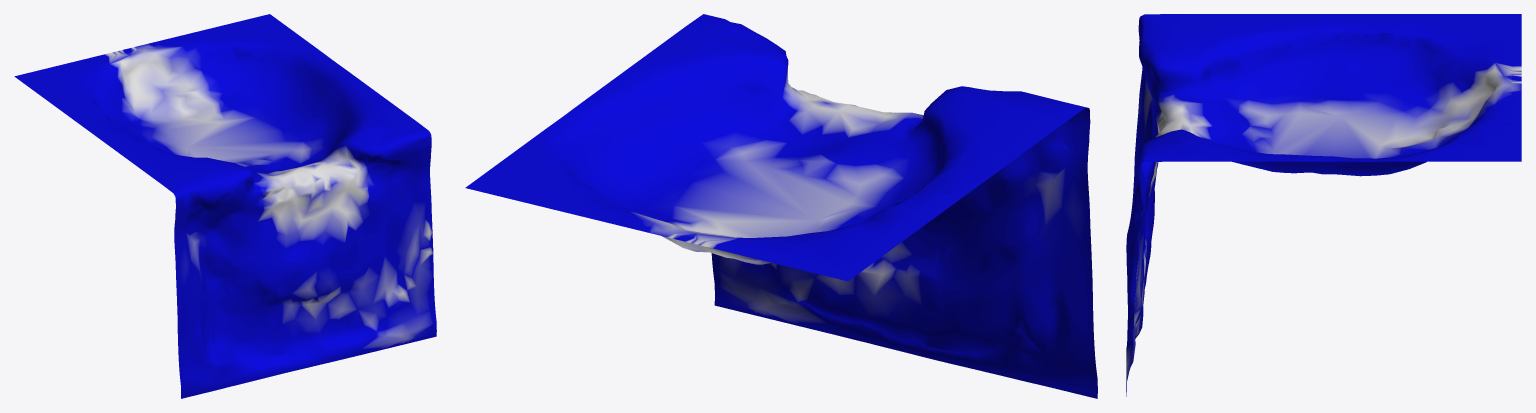
File: GeoTerrainCliffSideWaterHole01.fbx
The picture shows the model from 3 angles, left to right: view 1: azimuth 30°, elevation 25°; view 2: azimuth 150°, elevation 25°; view 3: azimuth 270°, elevation 25°; orthographic projection. The views are drawn at different scales.
Parts seen in each view (by area): view 1: GeoTerrainCliffSideWaterHole01_LOD0; view 2: GeoTerrainCliffSideWaterHole01_LOD0; view 3: GeoTerrainCliffSideWaterHole01_LOD0.
Boxes of the visible parts, x1,y1,x2,y2 form: GeoTerrainCliffSideWaterHole01_LOD0: (14, 14, 436, 398); GeoTerrainCliffSideWaterHole01_LOD0: (465, 14, 1097, 398); GeoTerrainCliffSideWaterHole01_LOD0: (1126, 14, 1521, 396).
Size of what is drawn, in the model's own units: 2000 by 1499 by 2261.
